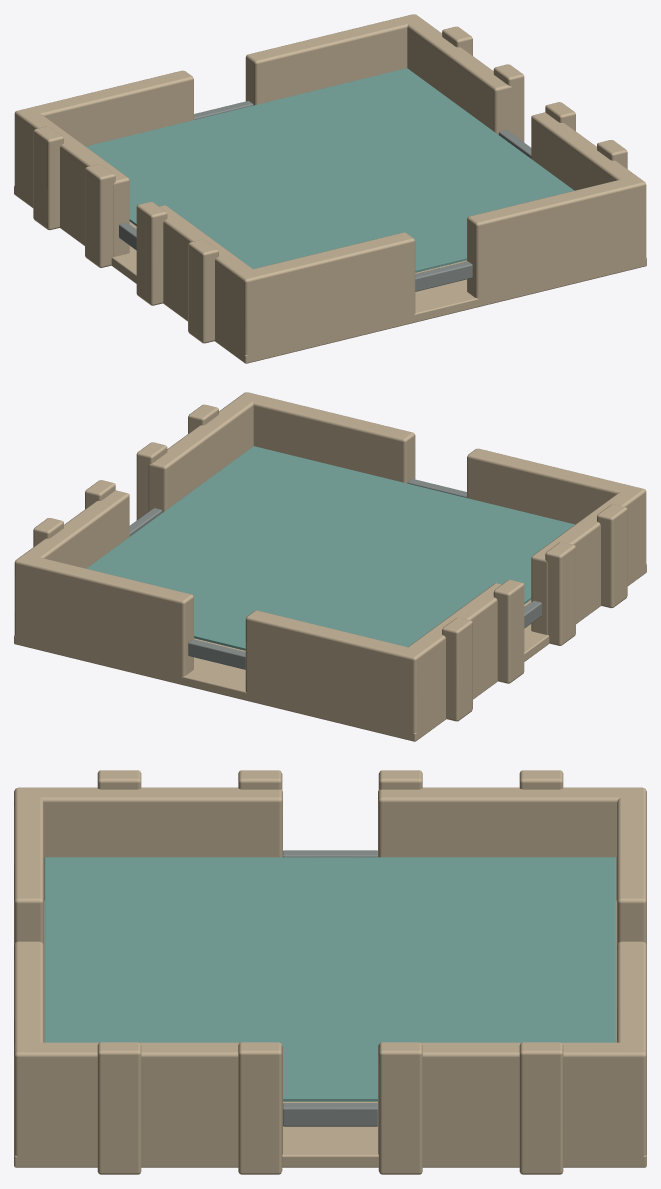
The model's file is coastal-saltworks-and-trade-port-coastal-saltworks-and-de44d499__31362.glb.
3 views of the same model, one above another, from view 1: azimuth 30°, elevation 25°; view 2: azimuth 150°, elevation 25°; view 3: azimuth 270°, elevation 25° (orthographic). The views are drawn at different scales.
Parts seen in each view (by area): view 1: coastal-saltworks-and-trade-port-reservoir-basin; view 2: coastal-saltworks-and-trade-port-reservoir-basin; view 3: coastal-saltworks-and-trade-port-reservoir-basin.
Boxes of the visible parts, left/top/right/bottom form: coastal-saltworks-and-trade-port-reservoir-basin: left=14, top=14, right=646, bottom=363; coastal-saltworks-and-trade-port-reservoir-basin: left=14, top=392, right=646, bottom=741; coastal-saltworks-and-trade-port-reservoir-basin: left=14, top=770, right=646, bottom=1174.
Bounding box in the file's own units: 3.81 × 0.78 × 3.6.
